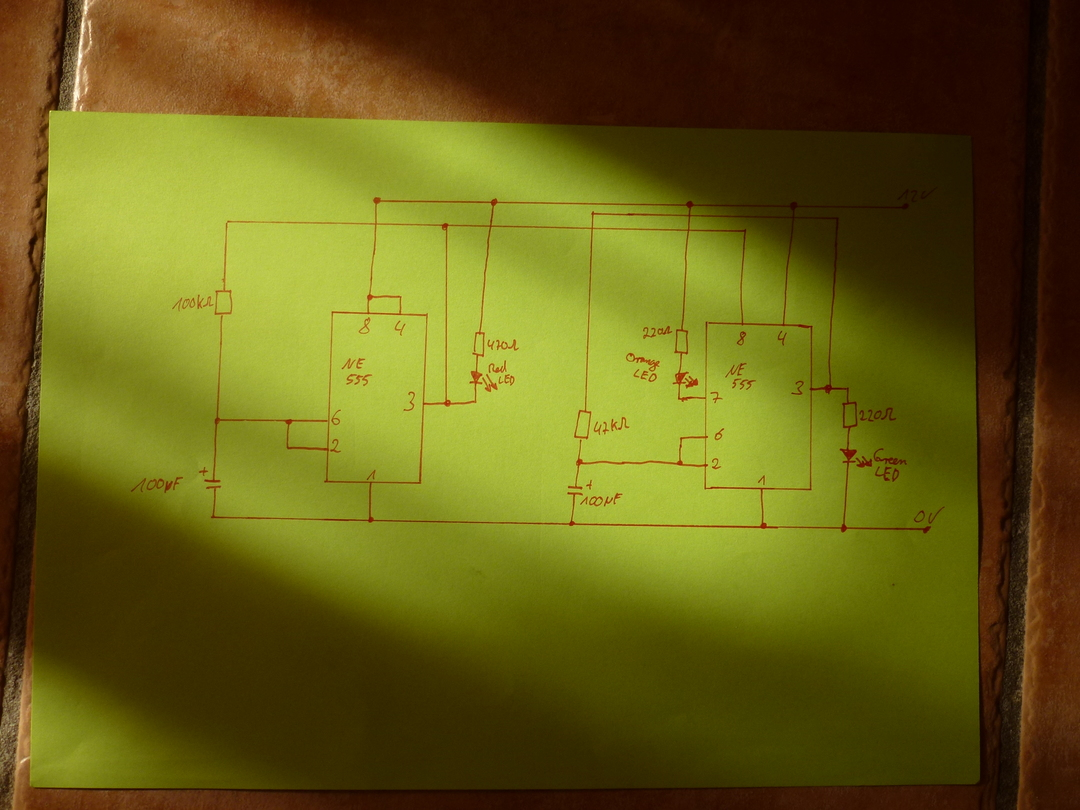capacitor.polarized: (198, 466, 222, 491), (566, 479, 594, 497)
crossover: (588, 224, 597, 234), (371, 220, 381, 228), (685, 211, 694, 219), (684, 226, 693, 234), (486, 222, 495, 230), (788, 214, 798, 221)
diode.light_emitting: (839, 447, 873, 469), (468, 370, 499, 393), (671, 371, 700, 388)
integrated_cricuit.ne555: (703, 321, 815, 492), (323, 310, 428, 485)
junction: (441, 397, 455, 409), (822, 383, 834, 395), (211, 414, 223, 426), (788, 200, 800, 211), (371, 195, 383, 206), (838, 522, 849, 534), (282, 416, 295, 426), (283, 442, 294, 453), (574, 457, 586, 467), (440, 221, 450, 232), (208, 511, 218, 522), (365, 515, 376, 525), (759, 521, 769, 531), (365, 292, 375, 302), (396, 292, 406, 302), (471, 396, 481, 406), (567, 518, 577, 528), (489, 197, 499, 207), (843, 384, 853, 394), (684, 200, 695, 209), (675, 459, 685, 468), (740, 226, 750, 234), (833, 214, 842, 222), (589, 209, 598, 217), (676, 394, 684, 403), (224, 218, 231, 226), (678, 435, 685, 442)
resistor: (573, 408, 592, 440), (214, 288, 234, 317), (841, 400, 858, 430), (674, 327, 690, 356), (472, 331, 486, 358)
terminal: (921, 524, 934, 536), (899, 201, 911, 212)
text: (873, 448, 908, 482), (625, 352, 661, 382), (129, 475, 184, 493), (341, 357, 373, 387), (725, 363, 756, 390), (488, 359, 516, 387), (172, 294, 213, 312), (593, 416, 629, 436), (579, 492, 624, 508), (898, 186, 935, 202), (913, 506, 945, 524), (859, 408, 896, 422), (643, 325, 672, 340), (487, 339, 519, 351), (402, 391, 416, 412), (358, 317, 371, 335), (790, 380, 805, 395), (394, 319, 406, 337), (331, 409, 342, 426), (330, 438, 341, 454), (777, 330, 788, 346), (710, 391, 723, 404), (710, 457, 722, 470), (736, 331, 746, 346), (714, 427, 724, 441), (757, 474, 768, 486), (366, 469, 376, 481)
